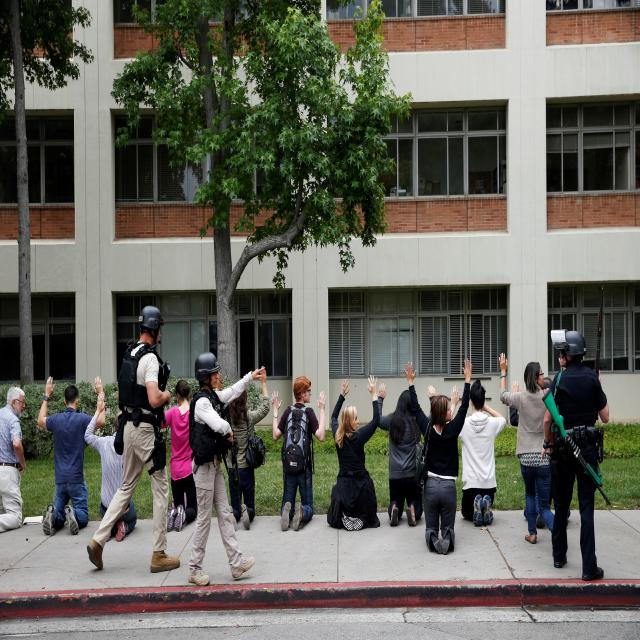body: (85, 302, 182, 577), (188, 351, 266, 587), (540, 325, 608, 583), (401, 355, 477, 557), (498, 351, 567, 545), (36, 371, 107, 538), (208, 364, 269, 532), (270, 370, 326, 534), (446, 378, 507, 526), (376, 382, 437, 528), (326, 374, 381, 532), (84, 391, 137, 543), (154, 378, 198, 534), (0, 382, 30, 541), (508, 376, 555, 428)
